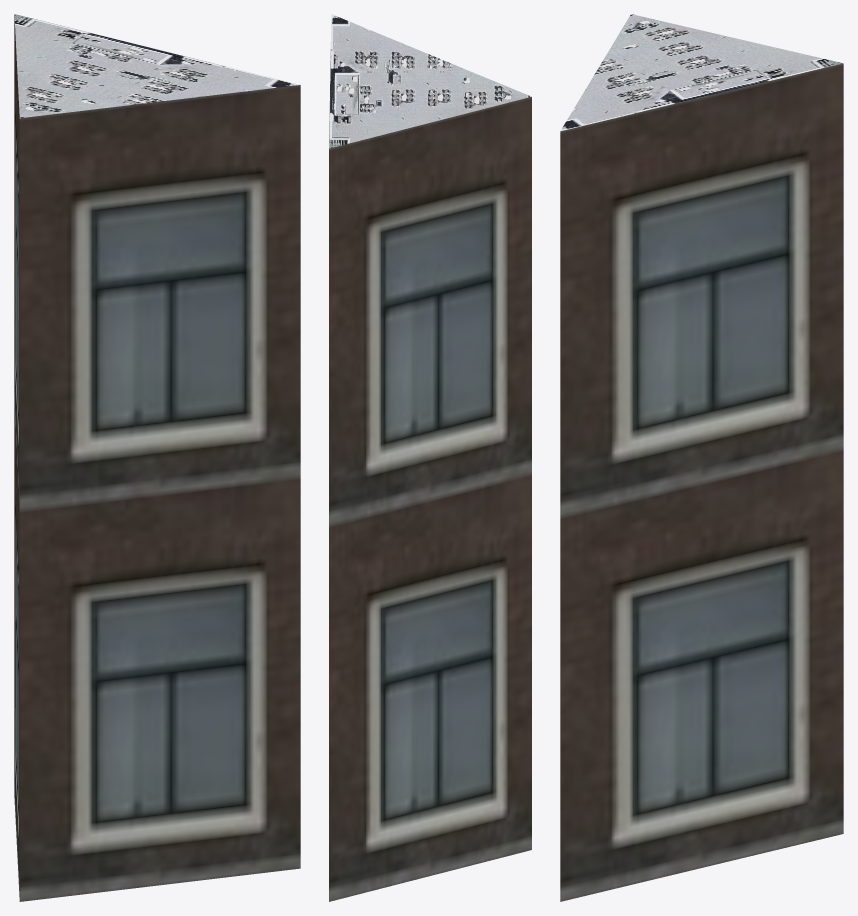
The model's file is ResTex__1906.fbx.
3 renders of one model, left to right at view 1: azimuth 30°, elevation 25°; view 2: azimuth 150°, elevation 25°; view 3: azimuth 270°, elevation 25°, orthographic. The views are drawn at different scales.
Visible parts, largest first — view 1: CityEngineMaterial_16_m, CityEngineMaterial_15_m; view 2: CityEngineMaterial_16_m, CityEngineMaterial_15_m; view 3: CityEngineMaterial_16_m, CityEngineMaterial_15_m.
Part boxes in pixels (x1,y1,x2,y2): CityEngineMaterial_16_m: (14,15,300,901); CityEngineMaterial_15_m: (14,14,299,118); CityEngineMaterial_16_m: (329,97,531,901); CityEngineMaterial_15_m: (329,14,531,148); CityEngineMaterial_16_m: (560,63,843,901); CityEngineMaterial_15_m: (560,14,842,131).
Bounding box in the file's own units: 1.96 × 6 × 2.
Materials: 2 (2 with a texture image).
